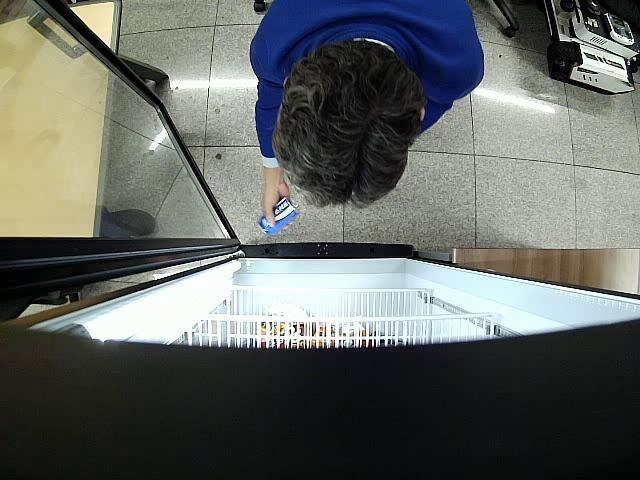13_pocariSweat: (256, 196, 300, 236)
